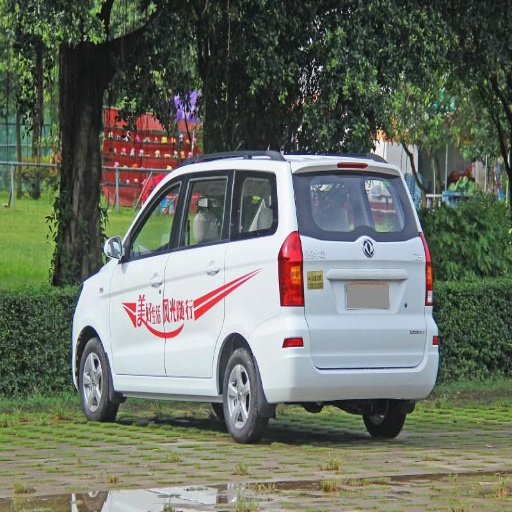back_bumper: (258, 309, 439, 398)
back_glass: (298, 171, 405, 234)
back_left_door: (166, 172, 272, 376)
trunk: (297, 236, 422, 365)
